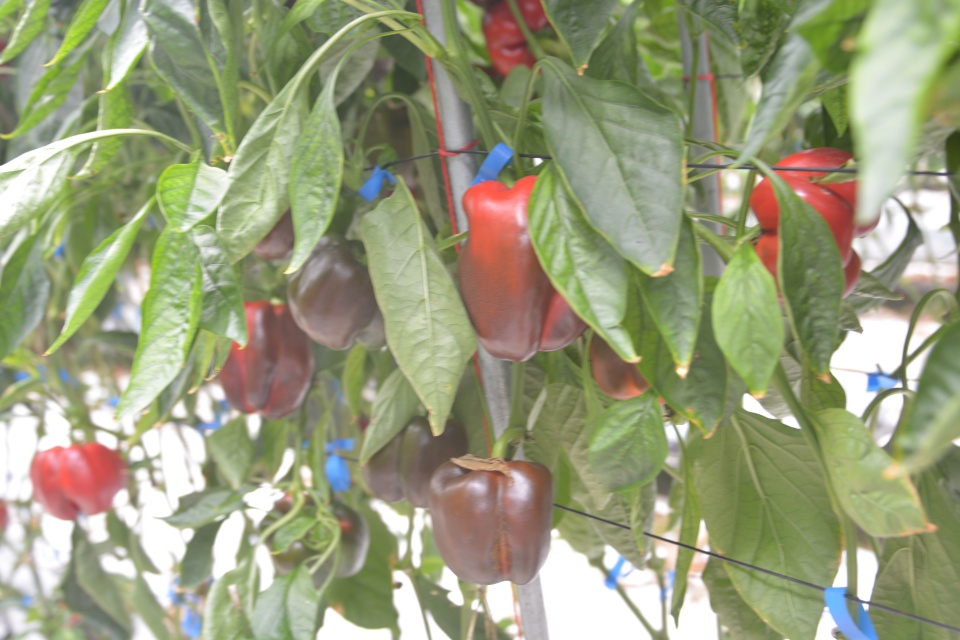fruit: (454, 172, 590, 361), (748, 144, 881, 306), (434, 450, 556, 588), (284, 232, 386, 352), (217, 298, 316, 417), (256, 488, 367, 587), (359, 412, 468, 512), (28, 439, 132, 522), (480, 1, 552, 75), (589, 330, 650, 400), (251, 207, 294, 261)
